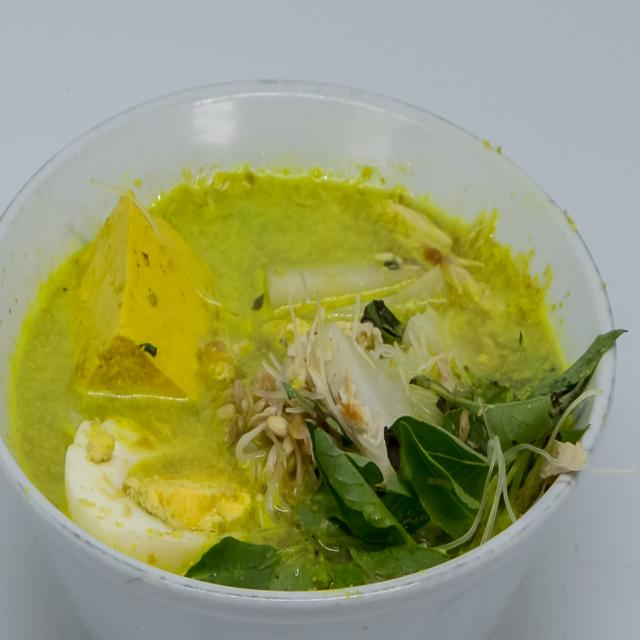Laksa-Bogor: (6, 131, 600, 603)
